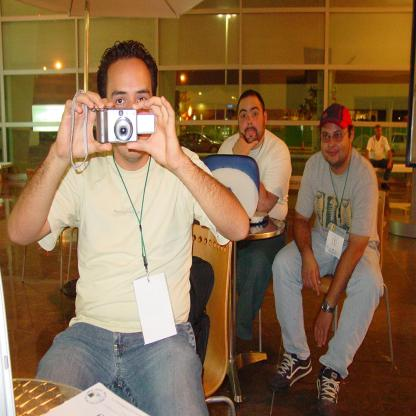Camera: (96, 108, 157, 145)
